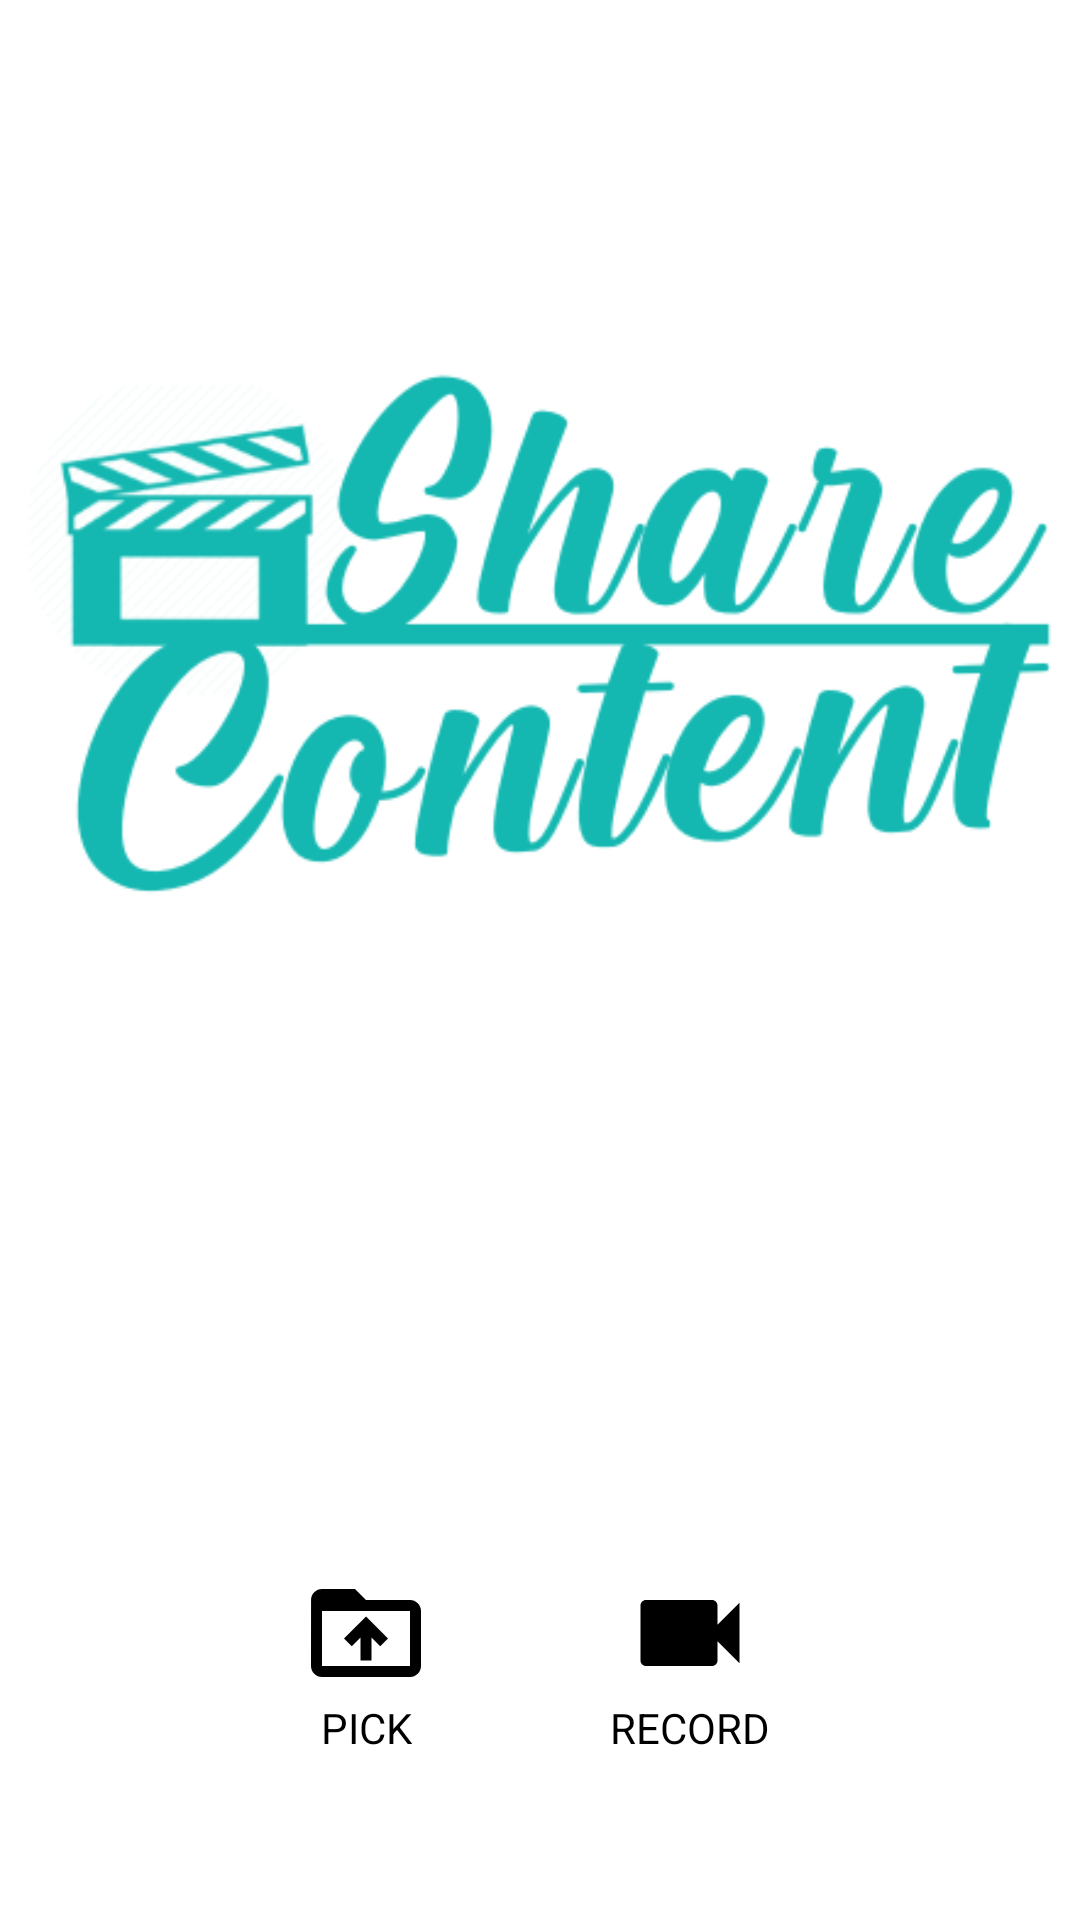

Where icons sit on this 1080px×1920px app screen, as (x1, y1, x2, y2):
videocam: (640, 1600, 740, 1666)
